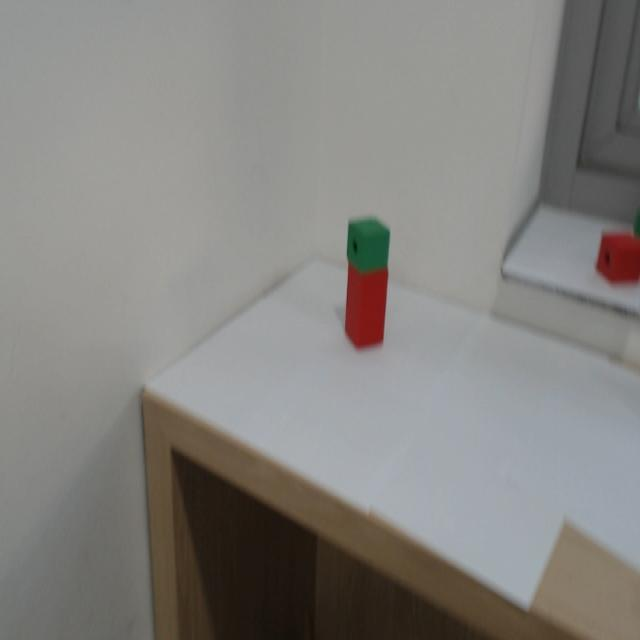cube: (341, 208, 405, 278)
